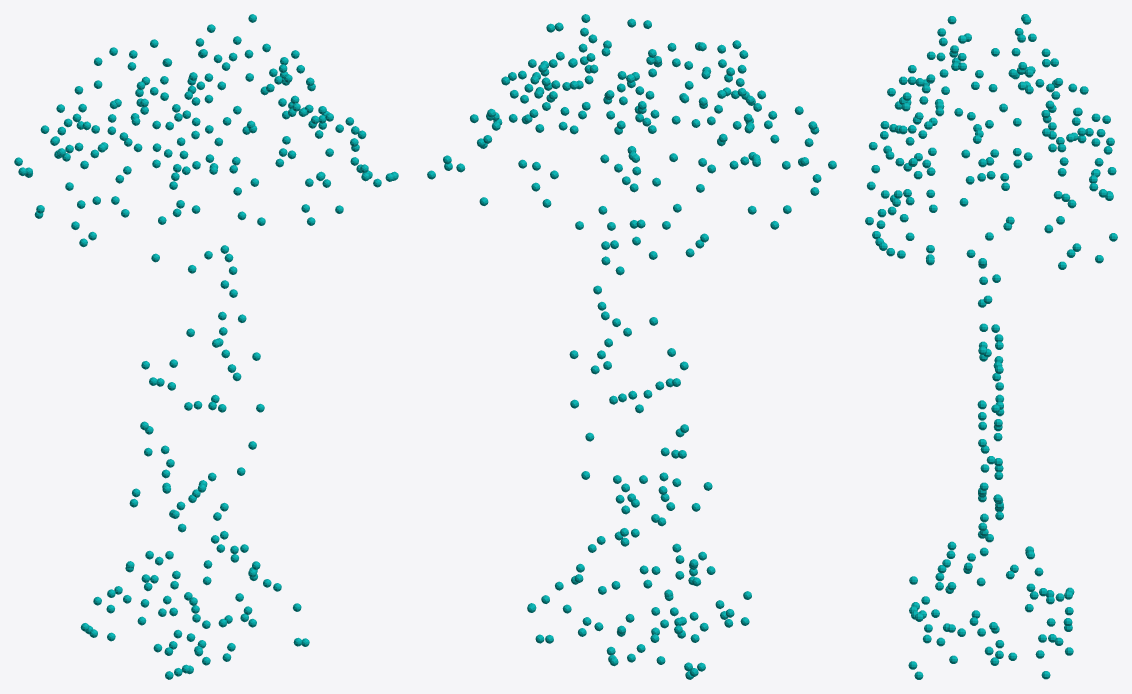
The picture shows the model from 3 angles, left to right: view 1: azimuth 30°, elevation 25°; view 2: azimuth 150°, elevation 25°; view 3: azimuth 270°, elevation 25°; orthographic projection. The views are drawn at different scales.
Size of the model in its own units: 0.557 by 1.02 by 0.3935.
